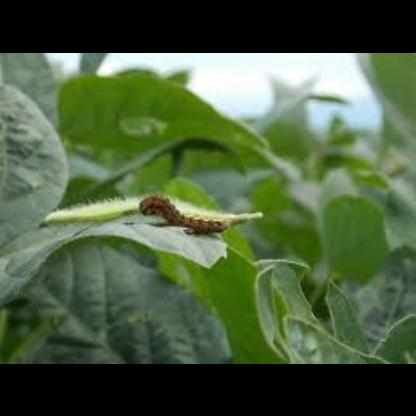oruga: (42, 191, 270, 227), (138, 195, 230, 233)
